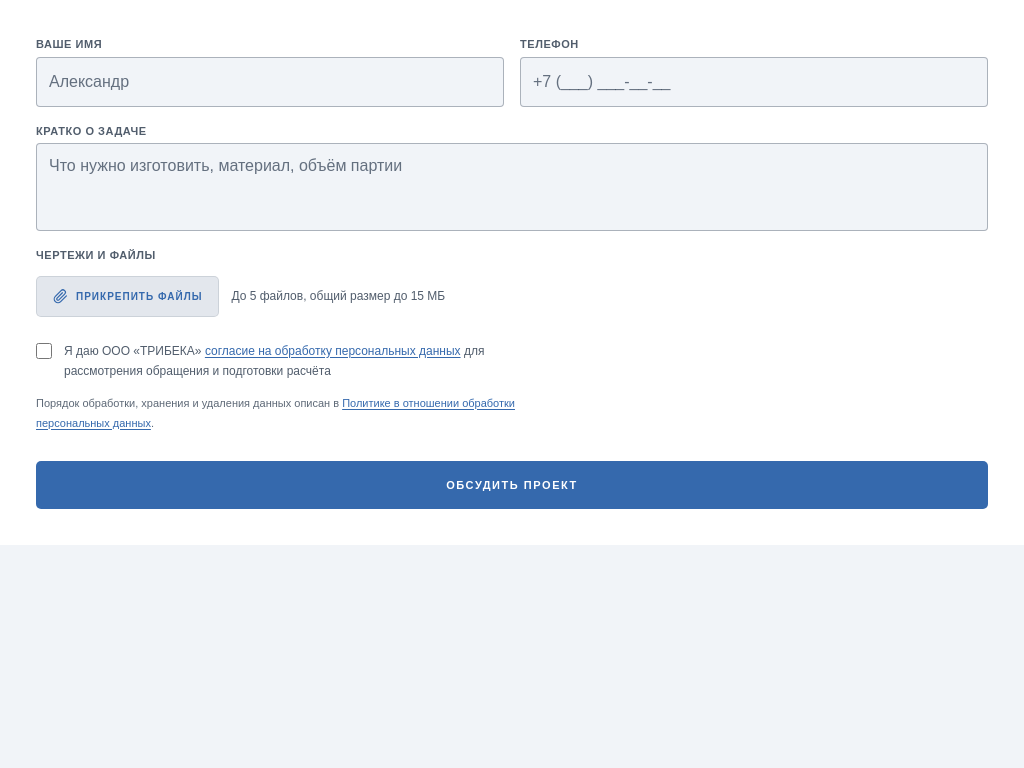
Test: RequestForm › keeps the form visible and explains a server failure
In the field labelled "Ваше имя": (270, 82) [36,56,504,106], type "Мария"
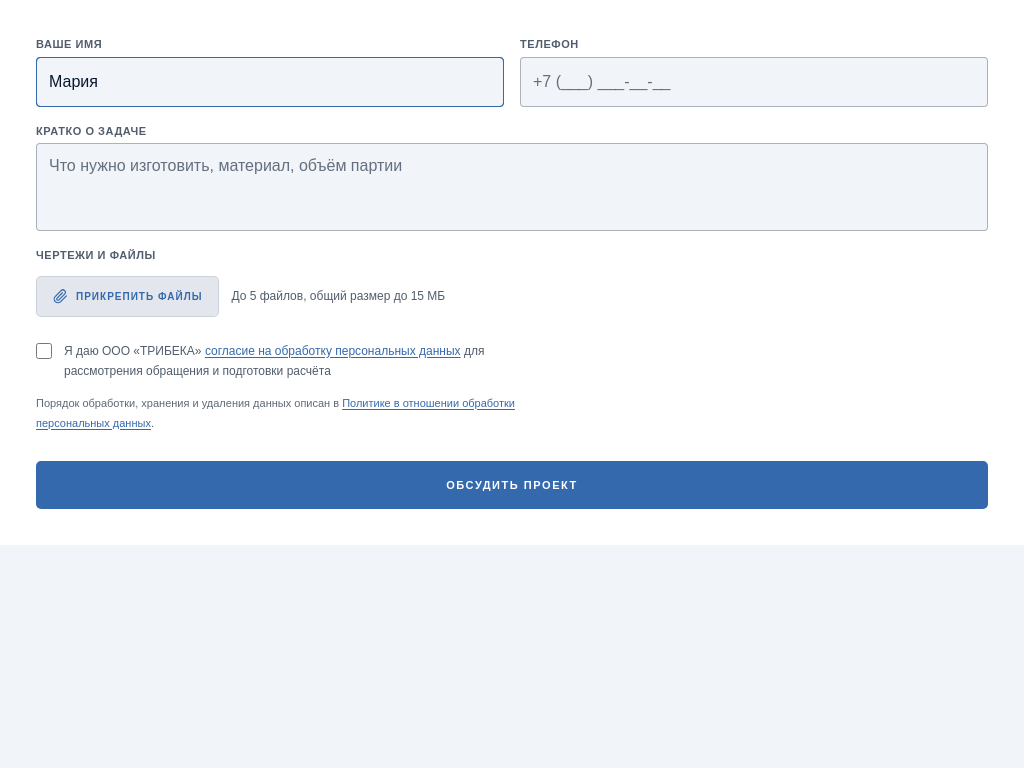
In the field labelled "Телефон": (754, 82) [520,56,988,106], type "+79062603060"
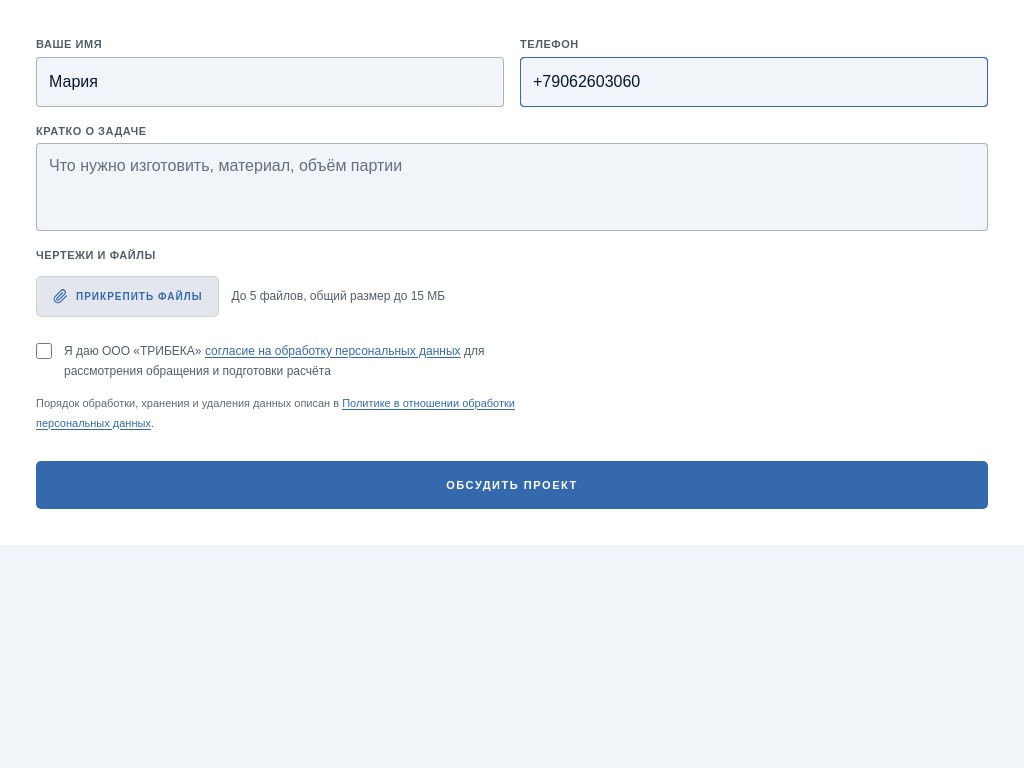
Click the checkbox: (44, 350) [36,342,52,358]
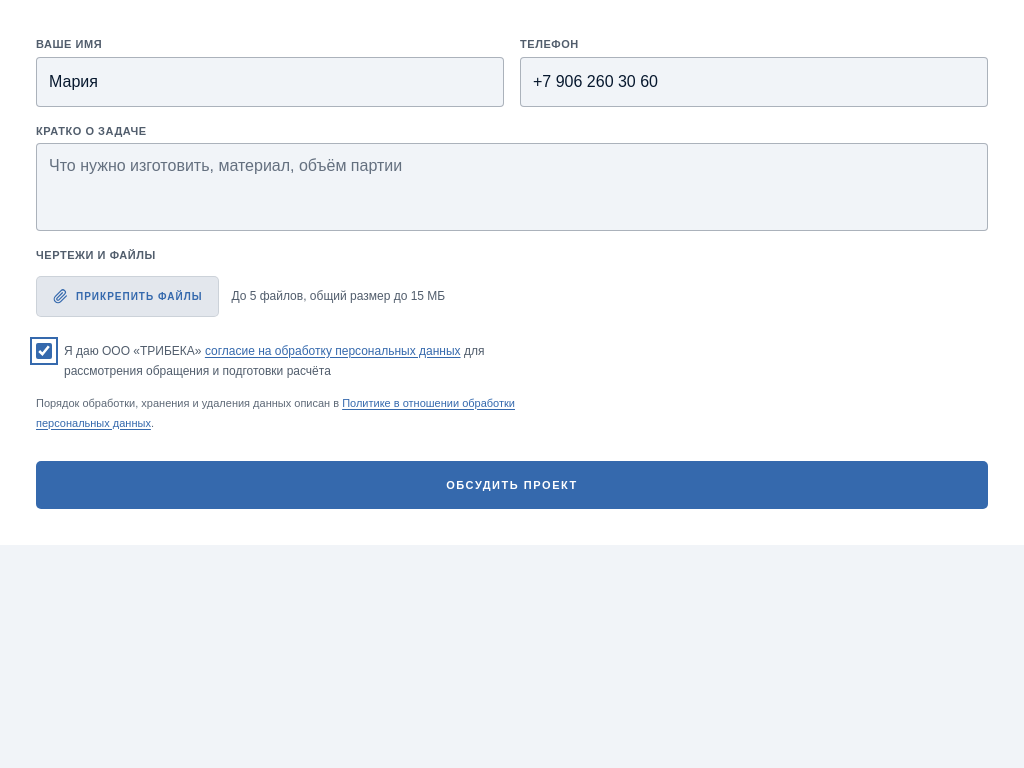
Click the button "Обсудить проект": (512, 485) [36,460,988,509]
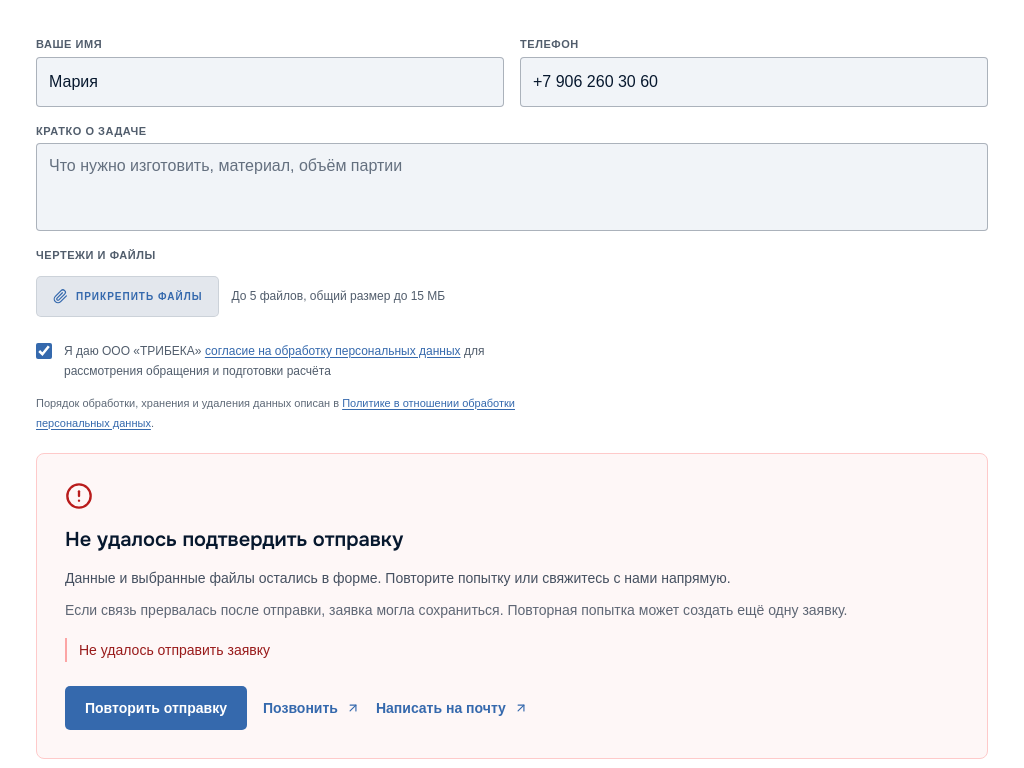
Now the message shows "Не удалось отправить заявку", box [79,642,270,658]
